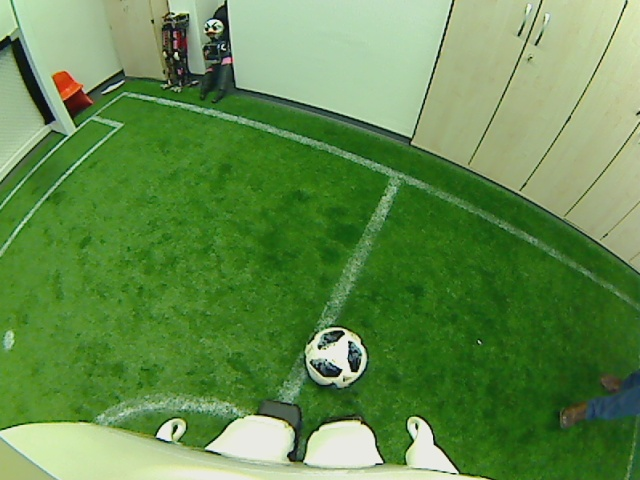ball: (303, 325, 367, 391)
